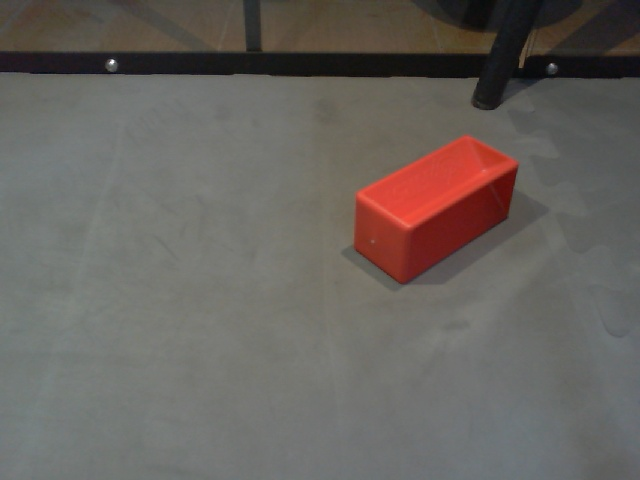RedSample: (351, 136, 521, 285)
